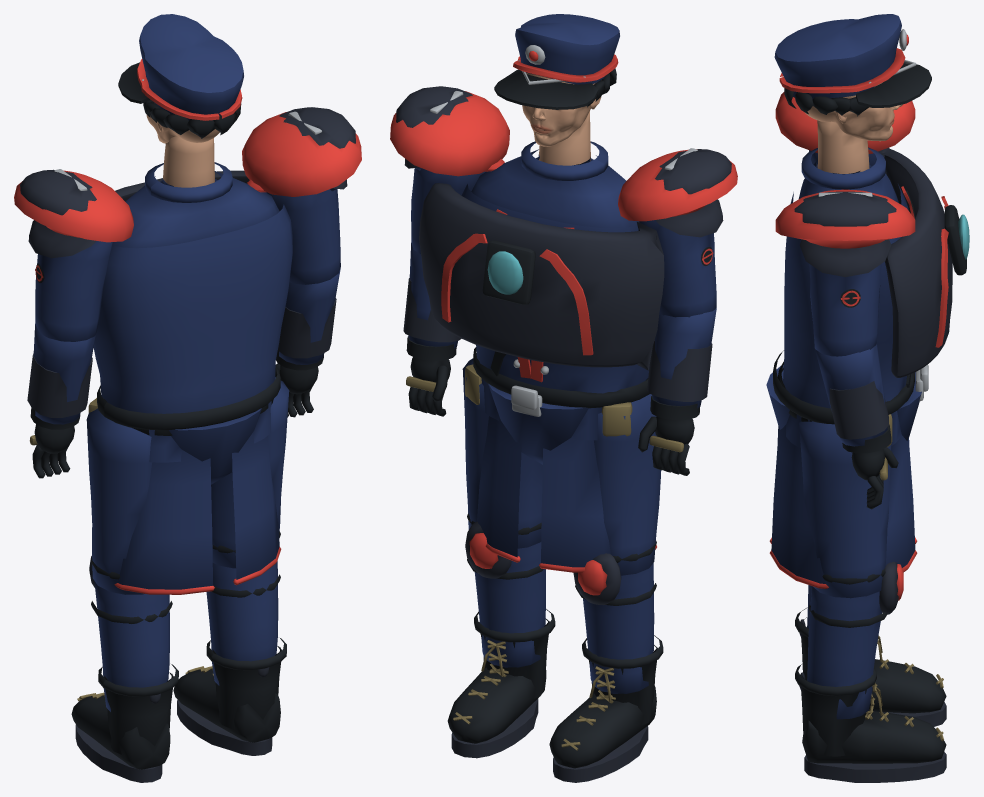
Rendered from kf-mara.glb.
The picture shows the model from 3 angles, left to right: view 1: azimuth 30°, elevation 25°; view 2: azimuth 150°, elevation 25°; view 3: azimuth 270°, elevation 25°; orthographic projection.
Visible parts, largest first — view 1: Torso Woven uniform, Leg_R Woven uniform, ArmorPlates Unit insignia, Leg_L Woven uniform, Knee_L Rubber and hair, Knee_R Rubber and hair, Head Woven uniform, Knee_R Woven uniform, Arm_R Woven uniform, Knee_L Woven uniform, Arm_L Woven uniform, Torso Rubber and hair (+11 smaller); view 2: ArmorPlates Ceramic armor, Torso Woven uniform, ArmorPlates Unit insignia, Leg_R Woven uniform, Leg_L Woven uniform, Knee_R Rubber and hair, Knee_L Rubber and hair, Knee_R Woven uniform, Knee_L Woven uniform, Head Woven uniform, Arm_R Woven uniform, Head Rubber and hair (+21 smaller); view 3: Leg_L Woven uniform, Knee_L Rubber and hair, Torso Woven uniform, ArmorPlates Ceramic armor, ArmorPlates Unit insignia, Head Woven uniform, Knee_L Woven uniform, Arm_L Woven uniform, Knee_R Rubber and hair, Head Rubber and hair, Elbow_L Ceramic armor, Elbow_L Woven uniform (+10 smaller).
Part boxes in pixels (x1,y1,x2,y2): Torso Woven uniform: (93,162,292,484); Leg_R Woven uniform: (86,408,214,594); ArmorPlates Unit insignia: (14,107,361,242); Leg_L Woven uniform: (211,377,289,585); Knee_L Rubber and hair: (173,531,286,755); Knee_R Rubber and hair: (71,558,178,782); Head Woven uniform: (139,14,243,120); Knee_R Woven uniform: (94,581,169,711); Arm_R Woven uniform: (35,241,113,341); Knee_L Woven uniform: (206,561,278,685); Arm_L Woven uniform: (266,189,340,284); Torso Rubber and hair: (97,367,280,435); ArmorPlates Ceramic armor: (419,183,664,370); Torso Woven uniform: (461,141,649,464); ArmorPlates Unit insignia: (390,86,737,355); Leg_R Woven uniform: (539,394,661,575); Leg_L Woven uniform: (462,358,542,562); Knee_R Rubber and hair: (549,541,663,782); Knee_L Rubber and hair: (447,513,555,758); Knee_R Woven uniform: (583,563,654,693); Knee_L Woven uniform: (474,542,545,667); Head Woven uniform: (515,14,619,84); Arm_R Woven uniform: (638,220,716,317); Head Rubber and hair: (494,68,616,109); Leg_L Woven uniform: (769,421,917,598); Knee_L Rubber and hair: (795,568,946,782); Torso Woven uniform: (766,147,921,448); ArmorPlates Ceramic armor: (878,147,952,377); ArmorPlates Unit insignia: (775,92,948,347); Head Woven uniform: (774,14,901,99); Knee_L Woven uniform: (807,586,882,719); Arm_L Woven uniform: (809,264,881,356); Knee_R Rubber and hair: (795,607,946,726); Head Rubber and hair: (784,63,931,116); Elbow_L Ceramic armor: (829,381,888,439); Elbow_L Woven uniform: (815,343,887,446).
Size of the model in its own units: 0.913 by 1.92 by 0.488.
